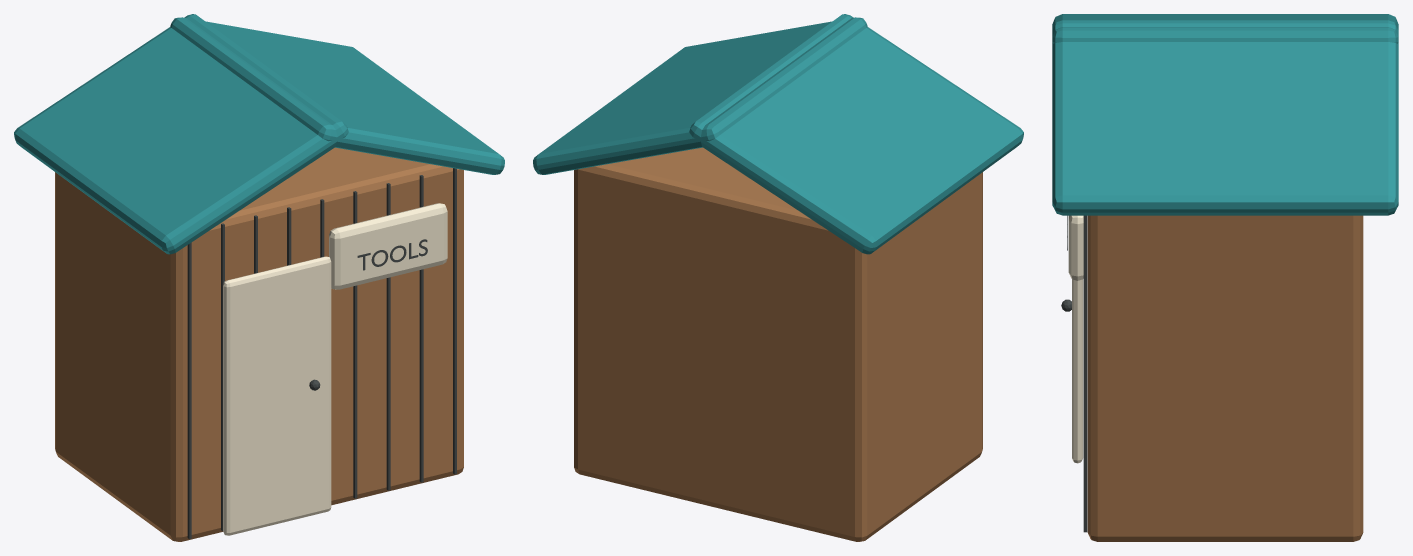
Rendered from tool-shed.glb.
The picture shows the model from 3 angles, left to right: view 1: azimuth 30°, elevation 25°; view 2: azimuth 150°, elevation 25°; view 3: azimuth 270°, elevation 25°; orthographic projection. The views are drawn at different scales.
Visible parts, largest first — view 1: shed_body, shed_roof, shed_door, shed_roof.001, sign_board, shed_board_seam, shed_board_seam.006, shed_board_seam.005, shed_board_seam.007, shed_board_seam.008, shed_board_seam.001; view 2: shed_body, shed_roof, shed_roof.001; view 3: shed_body, shed_roof.001, shed_roof, shed_door, shed_board_seam.008, sign_board.
Boxes of the visible parts, box(x1,y1,x2,y2) form: shed_body: box(55, 147, 463, 541); shed_roof: box(14, 14, 348, 254); shed_door: box(223, 256, 331, 535); shed_roof.001: box(170, 17, 504, 174); sign_board: box(329, 203, 447, 289); shed_board_seam: box(187, 242, 191, 539); shed_board_seam.006: box(386, 183, 390, 490); shed_board_seam.005: box(353, 191, 357, 498); shed_board_seam.007: box(419, 175, 423, 482); shed_board_seam.008: box(453, 168, 456, 474); shed_board_seam.001: box(221, 223, 224, 530); shed_body: box(574, 147, 982, 541); shed_roof: box(689, 14, 1023, 254); shed_roof.001: box(533, 17, 867, 174); shed_body: box(1087, 215, 1363, 541); shed_roof.001: box(1052, 20, 1398, 215); shed_roof: box(1052, 14, 1398, 43); shed_door: box(1072, 279, 1083, 463); shed_board_seam.008: box(1083, 215, 1087, 532); sign_board: box(1068, 215, 1083, 280).
Bounding box in the file's own units: 1.75 × 1.94 × 1.38.
